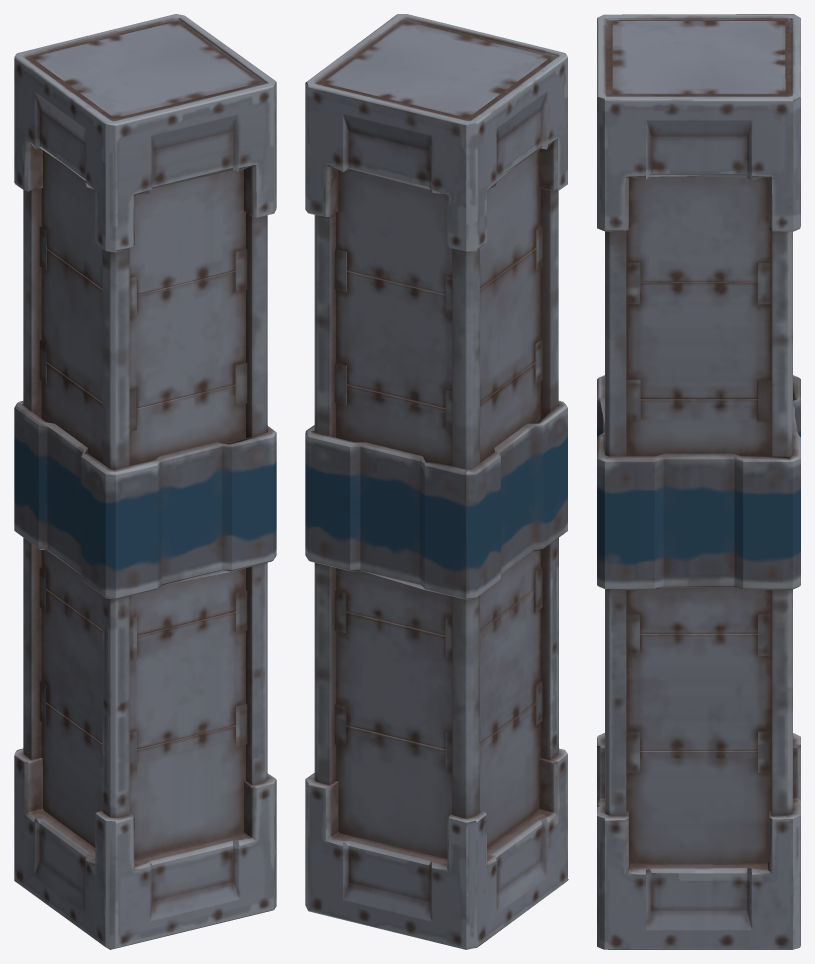
The model's file is Pillar_Metal_C.glb.
3 renders of one model, left to right at view 1: azimuth 30°, elevation 25°; view 2: azimuth 150°, elevation 25°; view 3: azimuth 270°, elevation 25°, orthographic. The views are drawn at different scales.
Parts seen in each view (by area): view 1: SM_Metal_Pillar; view 2: SM_Metal_Pillar; view 3: SM_Metal_Pillar.
Boxes of the visible parts, bbox=[...] form: SM_Metal_Pillar: bbox=[14, 14, 276, 949]; SM_Metal_Pillar: bbox=[305, 14, 568, 949]; SM_Metal_Pillar: bbox=[597, 14, 800, 949].
Size of the model in its own units: 0.6543 by 3 by 0.6518.
1 material, 1 textured.
